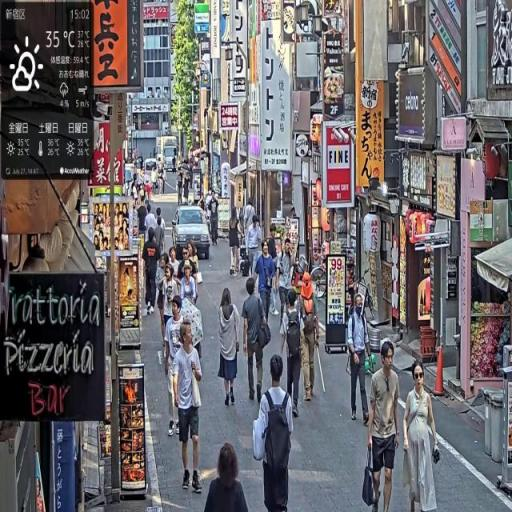person: (253, 353, 296, 512), (365, 339, 403, 512), (173, 316, 206, 499), (403, 362, 441, 512), (243, 275, 272, 405), (280, 289, 306, 424), (347, 293, 373, 426), (204, 442, 251, 512), (297, 274, 322, 405), (164, 295, 186, 438), (219, 287, 243, 410), (255, 241, 278, 328), (276, 237, 296, 333), (143, 227, 162, 317), (247, 215, 264, 282), (180, 261, 199, 307), (230, 214, 243, 278), (208, 193, 220, 248)
